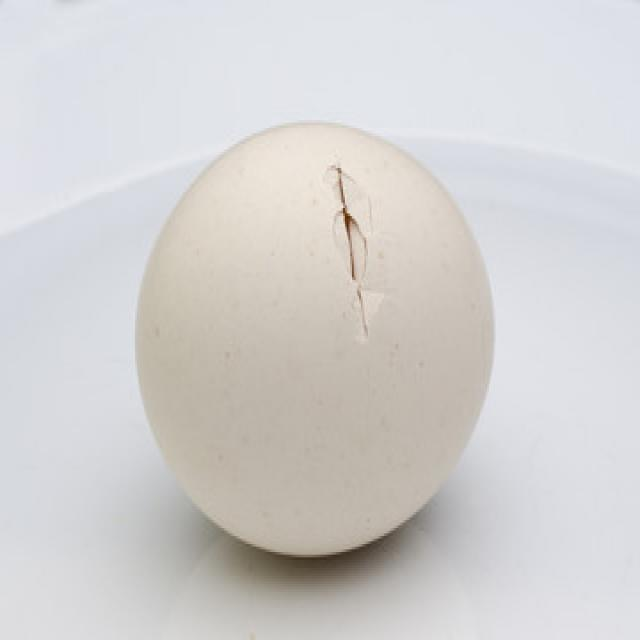biodegradable: (135, 119, 493, 556)
